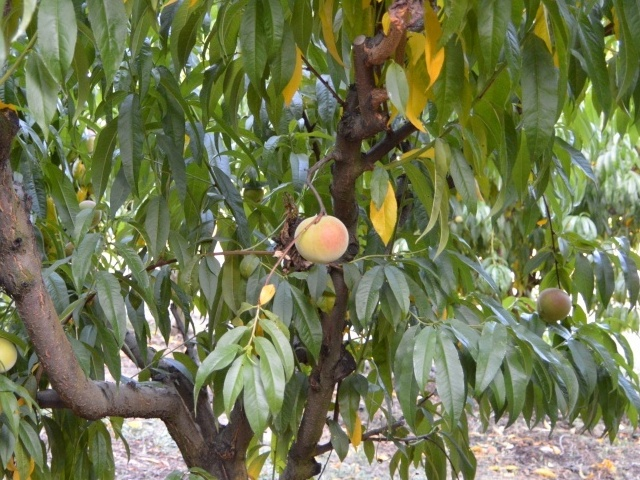peach: (287, 211, 353, 269), (534, 282, 575, 325), (75, 193, 107, 228), (1, 332, 20, 373)
